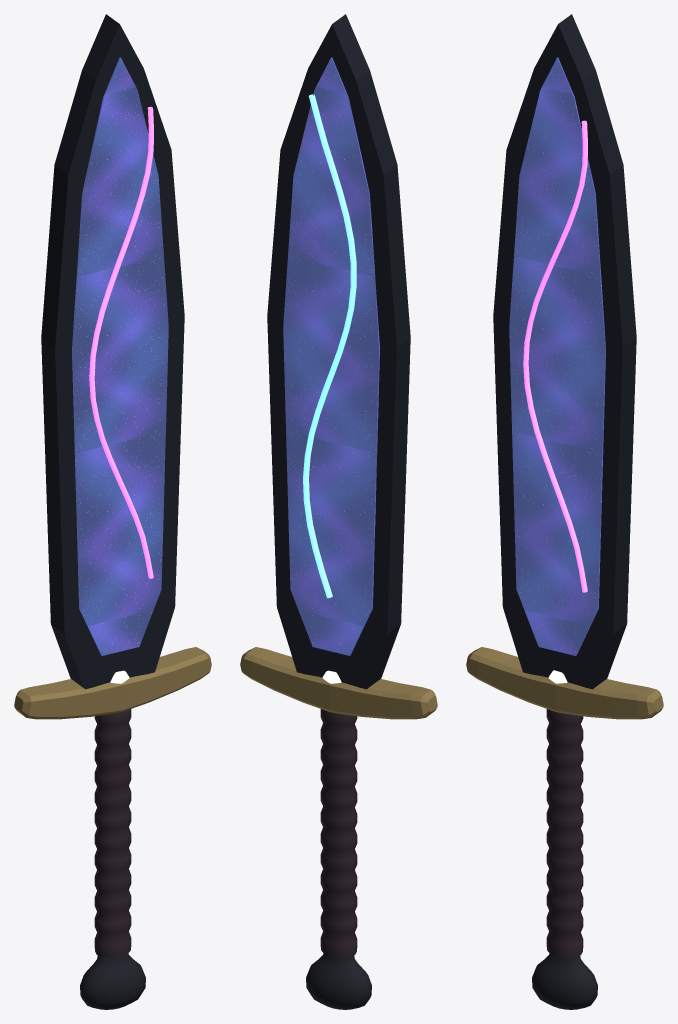
Rendered from nowhere-king-sword-firmament.glb.
3 renders of one model, left to right at view 1: azimuth 30°, elevation 25°; view 2: azimuth 150°, elevation 25°; view 3: azimuth 330°, elevation 25°, orthographic.
Visible parts, largest first — view 1: firmament-cosmos, firmament-frame, grip, guard, firmament-nebula-b, pommel; view 2: firmament-cosmos, firmament-frame, grip, guard, firmament-nebula-a, pommel; view 3: firmament-cosmos, firmament-frame, grip, guard, firmament-nebula-b, pommel.
Part boxes in pixels (x1,y1,x2,y2): firmament-cosmos: [72, 57, 168, 655]; firmament-frame: [41, 14, 184, 689]; grip: [94, 709, 131, 957]; guard: [14, 647, 211, 719]; firmament-nebula-b: [89, 106, 153, 578]; pommel: [80, 953, 145, 1009]; firmament-cosmos: [283, 57, 379, 655]; firmament-frame: [267, 14, 410, 689]; grip: [320, 709, 357, 957]; guard: [240, 647, 437, 719]; firmament-nebula-a: [303, 94, 356, 598]; pommel: [306, 953, 371, 1009]; firmament-cosmos: [509, 57, 605, 655]; firmament-frame: [493, 14, 636, 689]; grip: [546, 709, 583, 957]; guard: [466, 647, 663, 719]; firmament-nebula-b: [523, 120, 587, 592]; pommel: [532, 953, 597, 1009].
Size of the model in its own units: 0.3177 by 1.57 by 0.0645.
8 materials, 1 textured.
